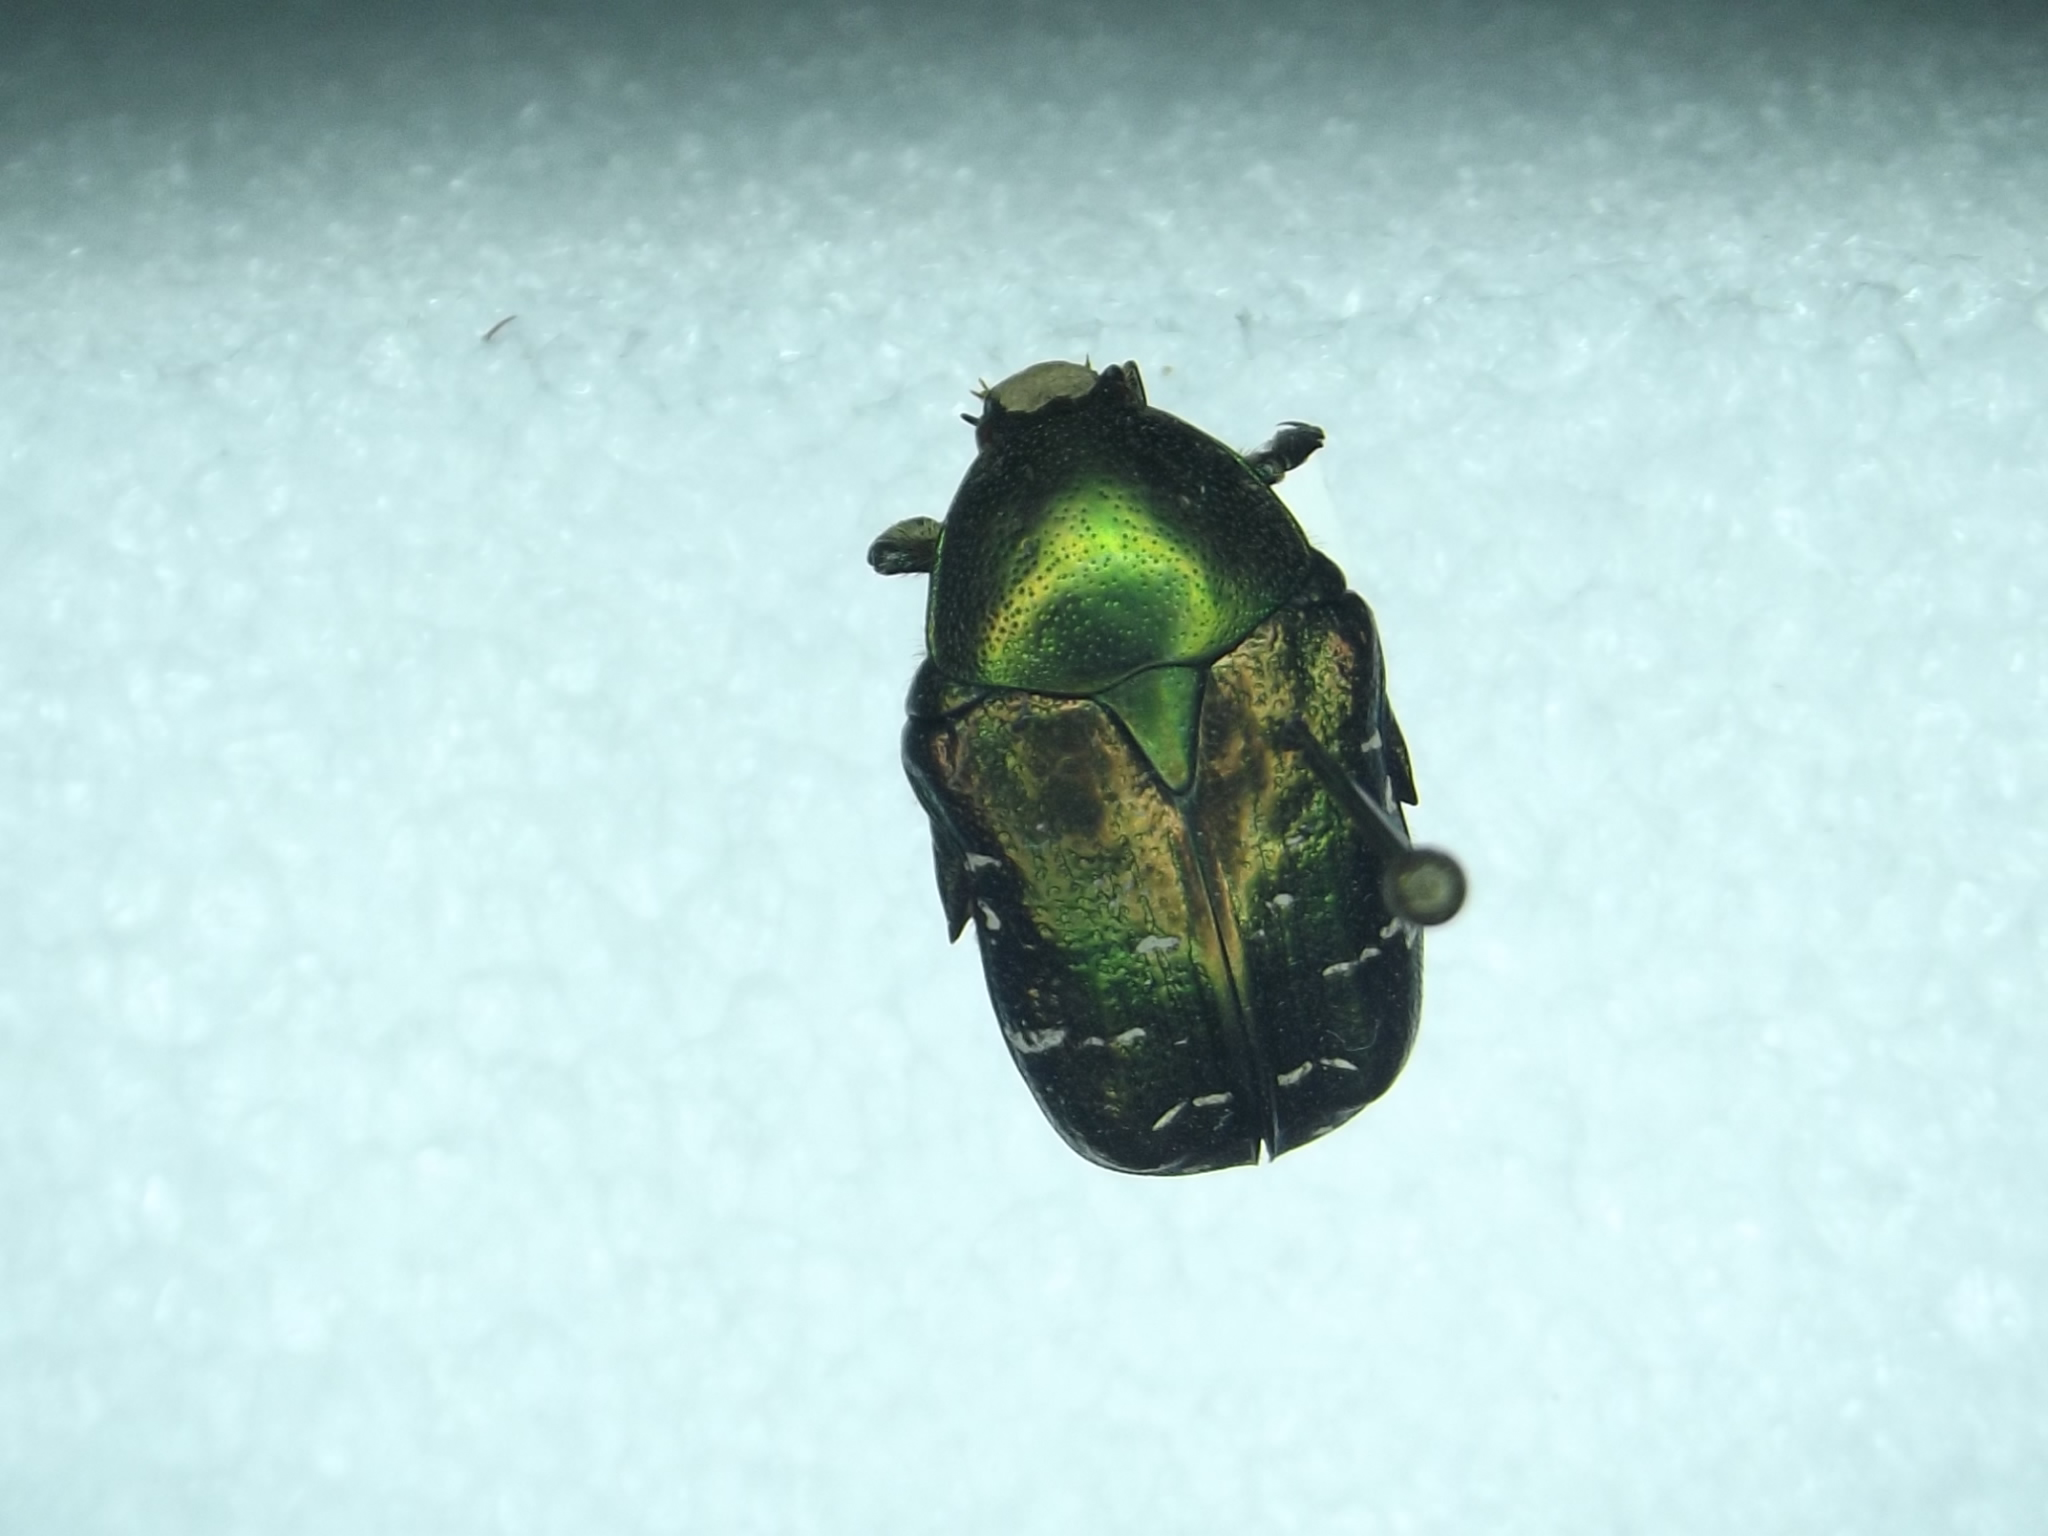Cetonia_kemali: (848, 334, 1443, 1179)
